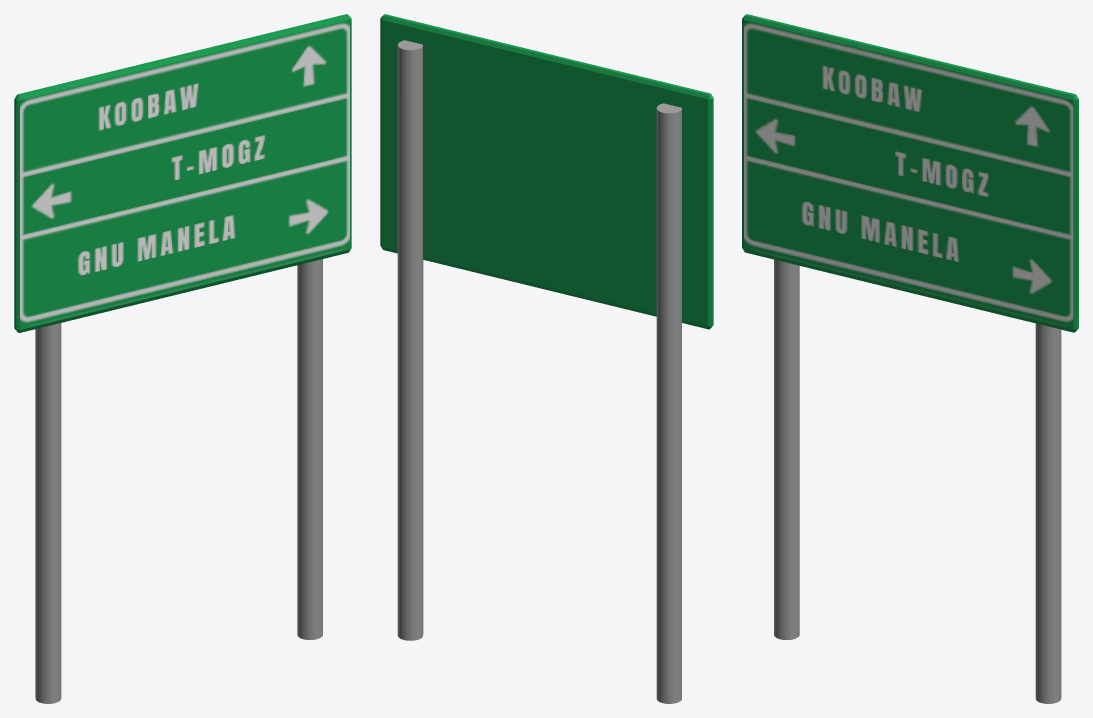
File: Stack(1).fbx
3 renders of one model, left to right at view 1: azimuth 30°, elevation 25°; view 2: azimuth 150°, elevation 25°; view 3: azimuth 330°, elevation 25°, orthographic.
Parts seen in each view (by area): view 1: pCube65; view 2: pCube65; view 3: pCube65.
Boxes of the visible parts, x1,y1,x2,y2 form: pCube65: (14,14,351,703); pCube65: (380,14,713,703); pCube65: (742,14,1078,703).
Bounding box in the file's own units: 4.77 × 8.37 × 0.3404.
Materials: 2 (1 with a texture image).
